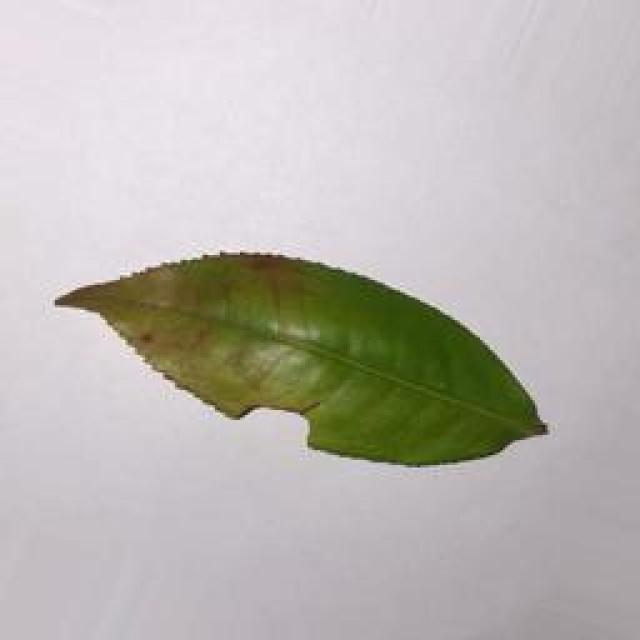Red Leaf Spot: (68, 228, 570, 497)
